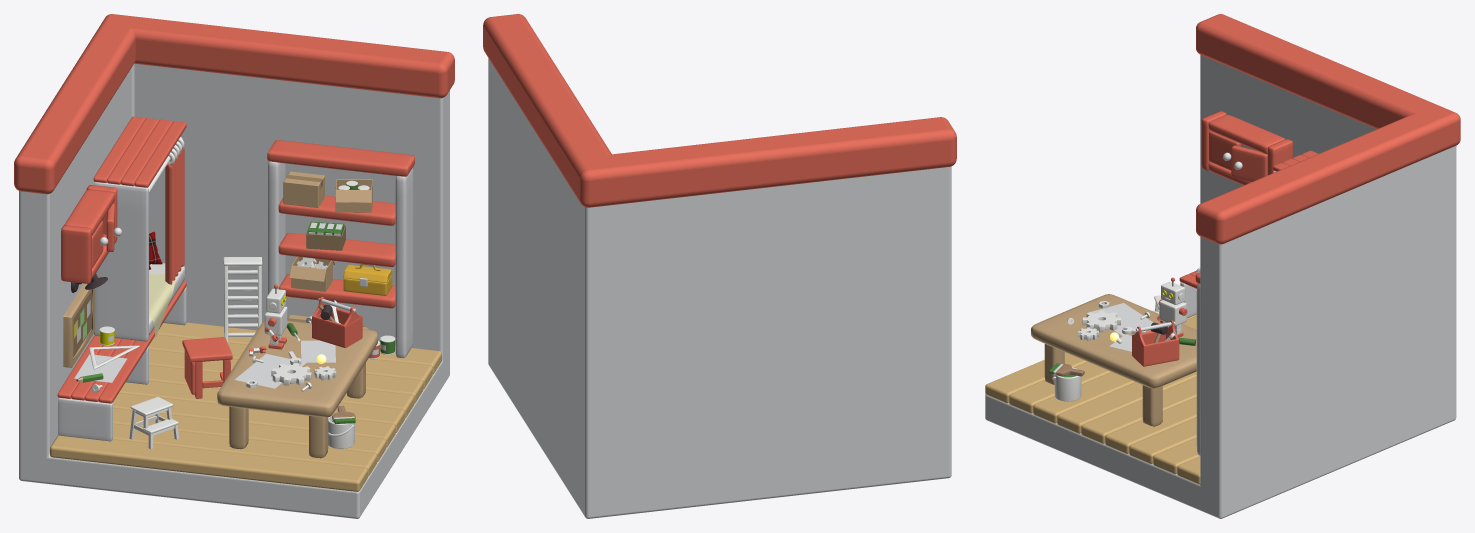
The model's file is redroom_compressed.glb.
3 views of the same model, side by side, from view 1: azimuth 30°, elevation 25°; view 2: azimuth 150°, elevation 25°; view 3: azimuth 270°, elevation 25° (orthographic). The views are drawn at different scales.
Visible parts, largest first — view 1: Cube.019, Cube.043, Cube.033, Cube.018, Cube.041, Cube.047, Cube.013, Cube.045, Cube.046, Cube.025, Cube.042, Plane.017 (+21 smaller); view 2: Cube.019, Cube.033; view 3: Cube.019, Cube.033, Cube.043, Cube.018, Cube.056, Cube.017, Cube.039, Cube.061, Cube.045, Plane.015, Cube.060, Cylinder.050 (+3 smaller).
Part boxes in pixels (<box>): Cube.019: <box>19,63,449,518</box>; Cube.043: <box>50,322,441,491</box>; Cube.033: <box>14,14,454,194</box>; Cube.018: <box>217,320,378,417</box>; Cube.041: <box>94,182,148,341</box>; Cube.047: <box>278,195,395,308</box>; Cube.013: <box>93,116,186,187</box>; Cube.045: <box>395,168,413,358</box>; Cube.046: <box>267,140,414,176</box>; Cube.025: <box>57,281,186,403</box>; Cube.042: <box>58,346,148,441</box>; Plane.017: <box>165,147,184,284</box>; Cube.019: <box>488,58,951,518</box>; Cube.033: <box>483,14,956,207</box>; Cube.019: <box>985,55,1456,518</box>; Cube.033: <box>1196,14,1460,244</box>; Cube.043: <box>985,311,1200,484</box>; Cube.018: <box>1031,294,1196,388</box>; Cube.056: <box>1208,115,1285,154</box>; Cube.017: <box>1044,344,1162,426</box>; Cube.039: <box>1132,331,1179,366</box>; Cube.061: <box>1231,145,1267,181</box>; Cube.045: <box>1196,284,1200,455</box>; Plane.015: <box>1088,303,1153,335</box>; Cube.060: <box>1209,131,1241,170</box>; Cylinder.050: <box>1054,367,1081,401</box>.
Bounding box in the file's own units: 3.15 × 2.23 × 3.12.
18 materials, 3 textured.
